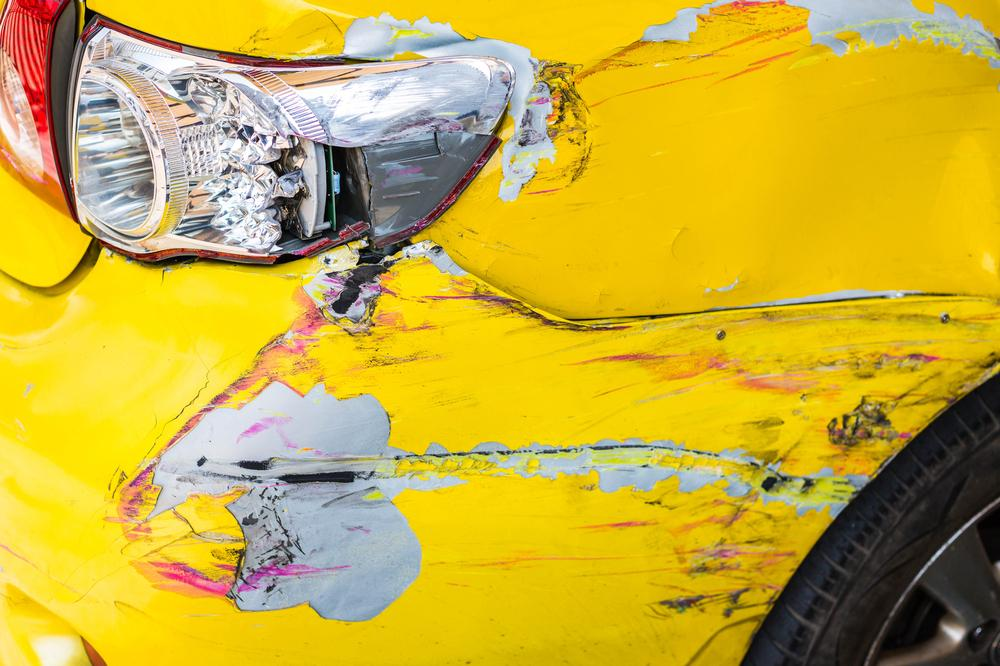lamp broken: (70, 15, 512, 263)
scratch: (83, 239, 1000, 623), (492, 0, 1000, 213)
